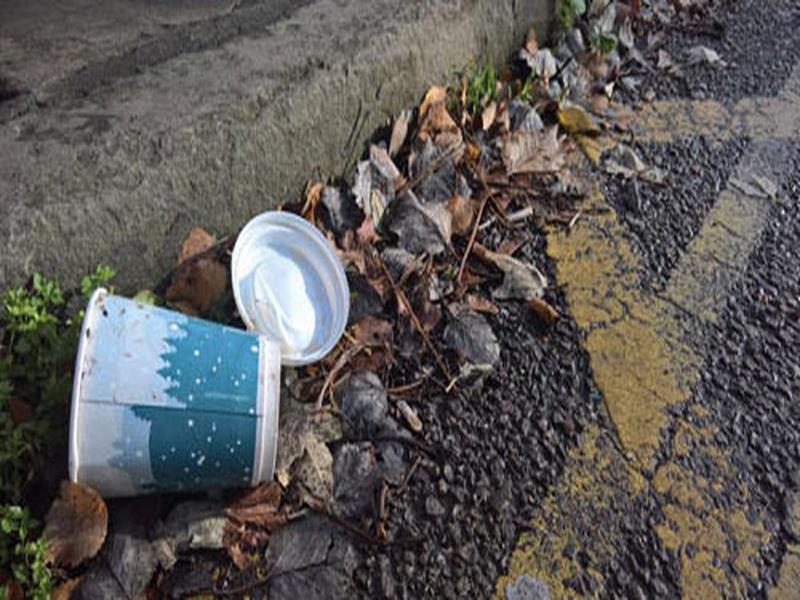cup: (57, 284, 292, 501)
